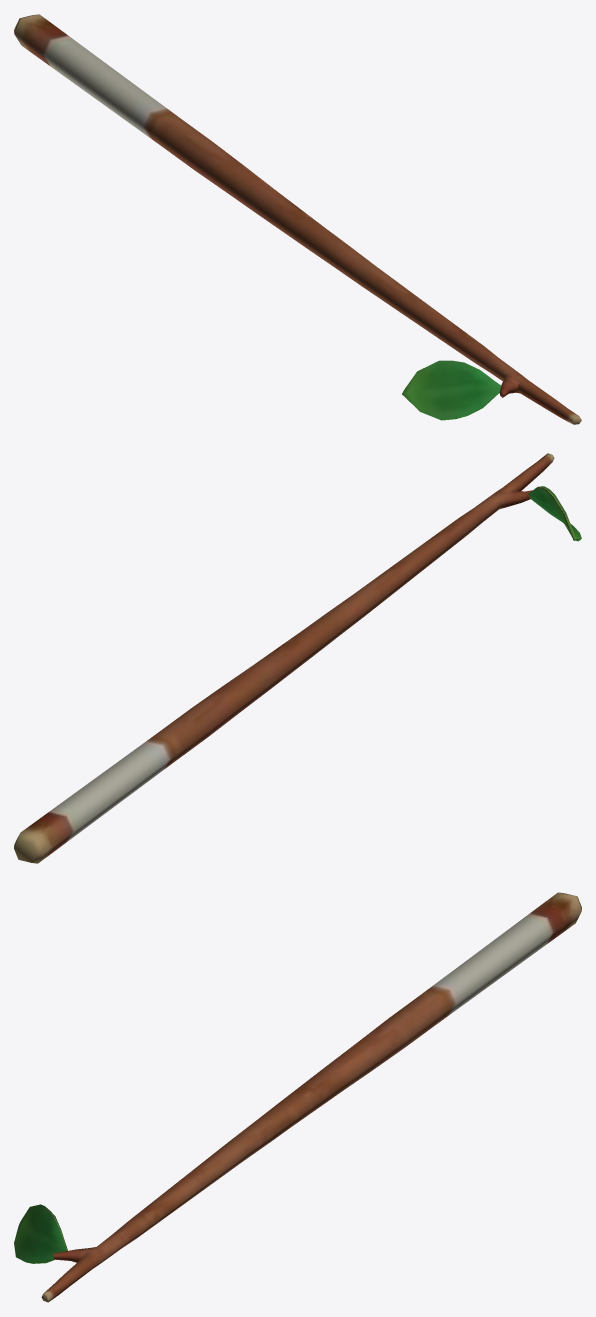
The model's file is tool-rod.glb.
3 views of the same model, one above another, from view 1: azimuth 30°, elevation 25°; view 2: azimuth 150°, elevation 25°; view 3: azimuth 330°, elevation 25° (orthographic).
Parts seen in each view (by area): view 1: ToolFishingrodWood__Main_node8; view 2: ToolFishingrodWood__Main_node8; view 3: ToolFishingrodWood__Main_node8.
Boxes of the visible parts, box(x1,y1,x2,y2) form: ToolFishingrodWood__Main_node8: box(14, 14, 581, 424); ToolFishingrodWood__Main_node8: box(14, 453, 581, 863); ToolFishingrodWood__Main_node8: box(14, 892, 581, 1302).
Size of the model in its own units: 1.99 by 0.8771 by 17.52.
Materials: 1 (1 with a texture image).
